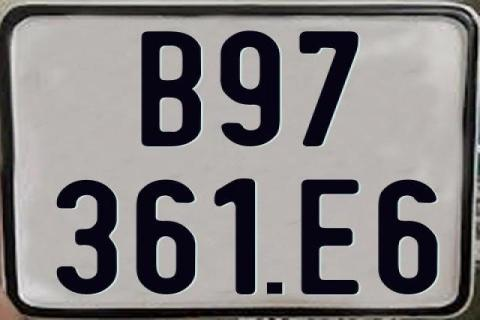0: (56, 179, 123, 299), (218, 29, 283, 150), (135, 179, 197, 297), (298, 30, 358, 146), (375, 177, 434, 293), (213, 178, 256, 294)
B: (141, 31, 202, 147)
E: (300, 177, 364, 295)
